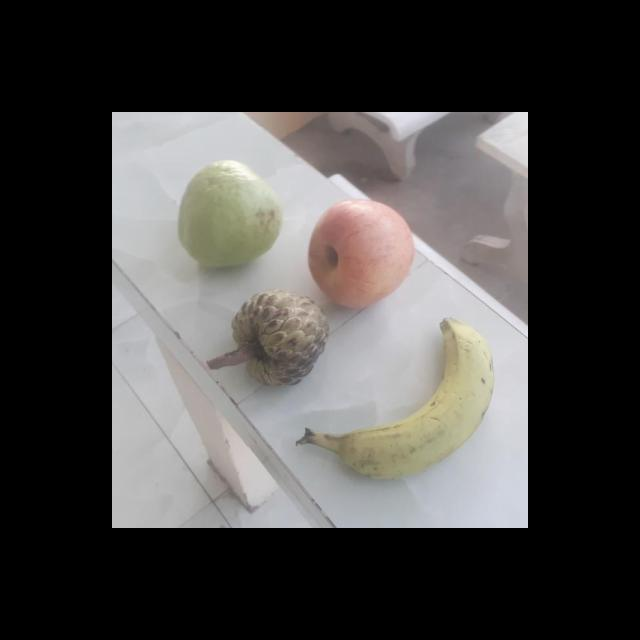Sakya fruit: (221, 287, 327, 387)
apple: (304, 196, 416, 305)
banana: (298, 314, 492, 480)
guava: (176, 164, 280, 265)
